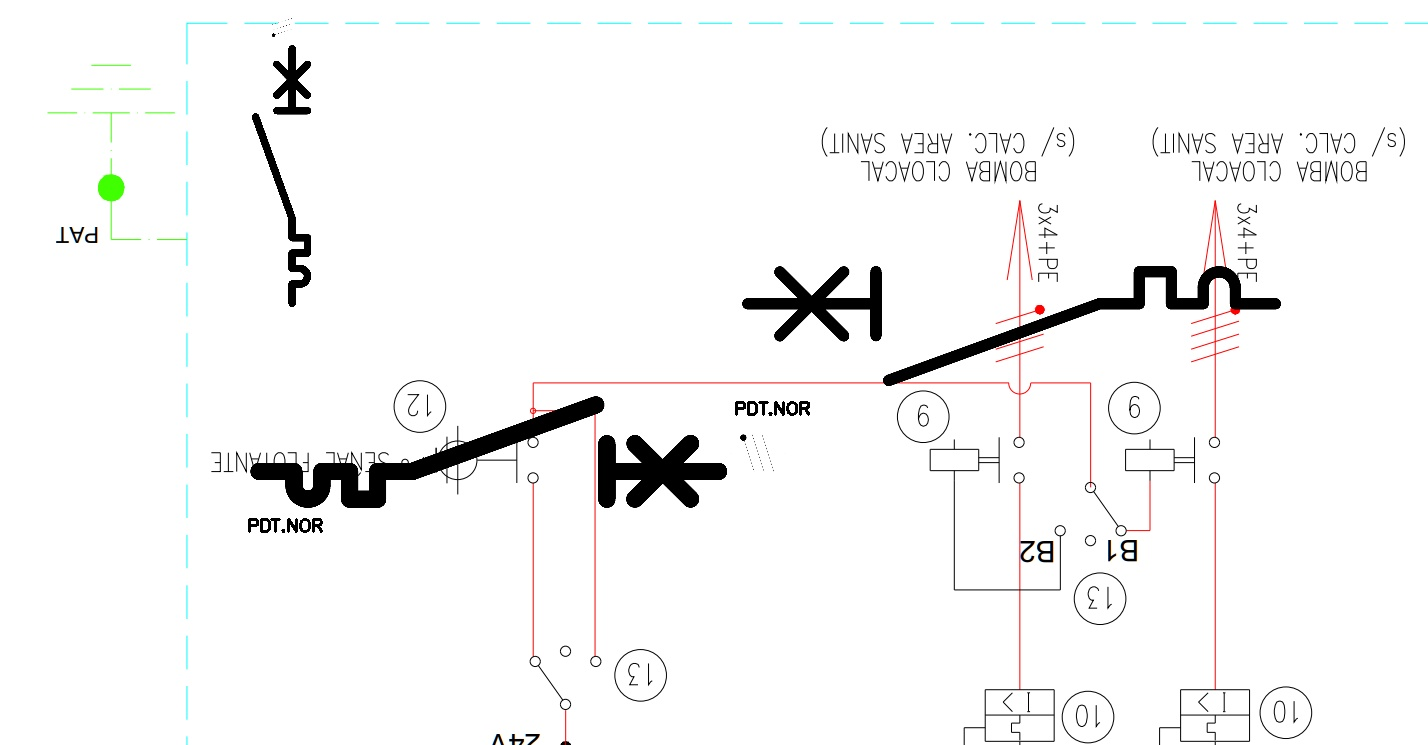interruptor_termomagnetico: (734, 258, 1289, 394), (247, 393, 730, 511), (249, 42, 314, 310)
